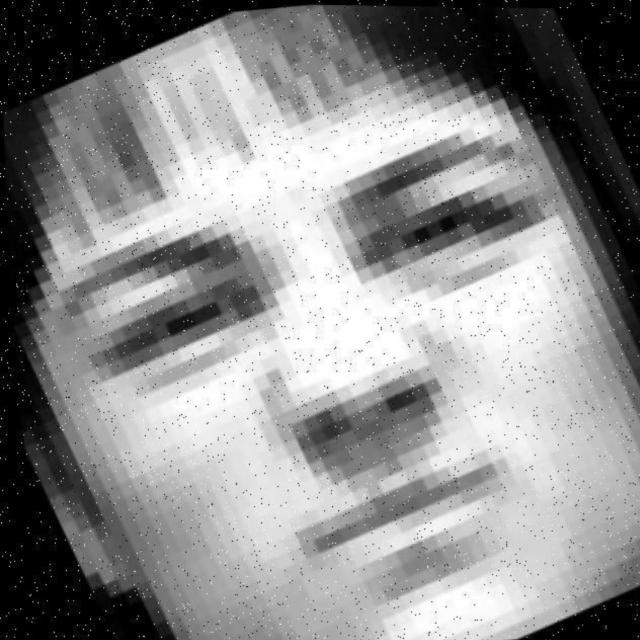Disgust: (7, 25, 640, 640)
